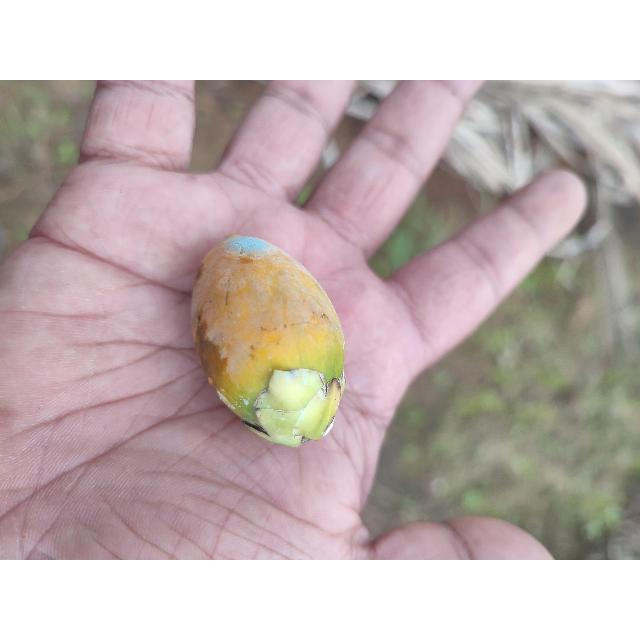good: (190, 235, 347, 450)
